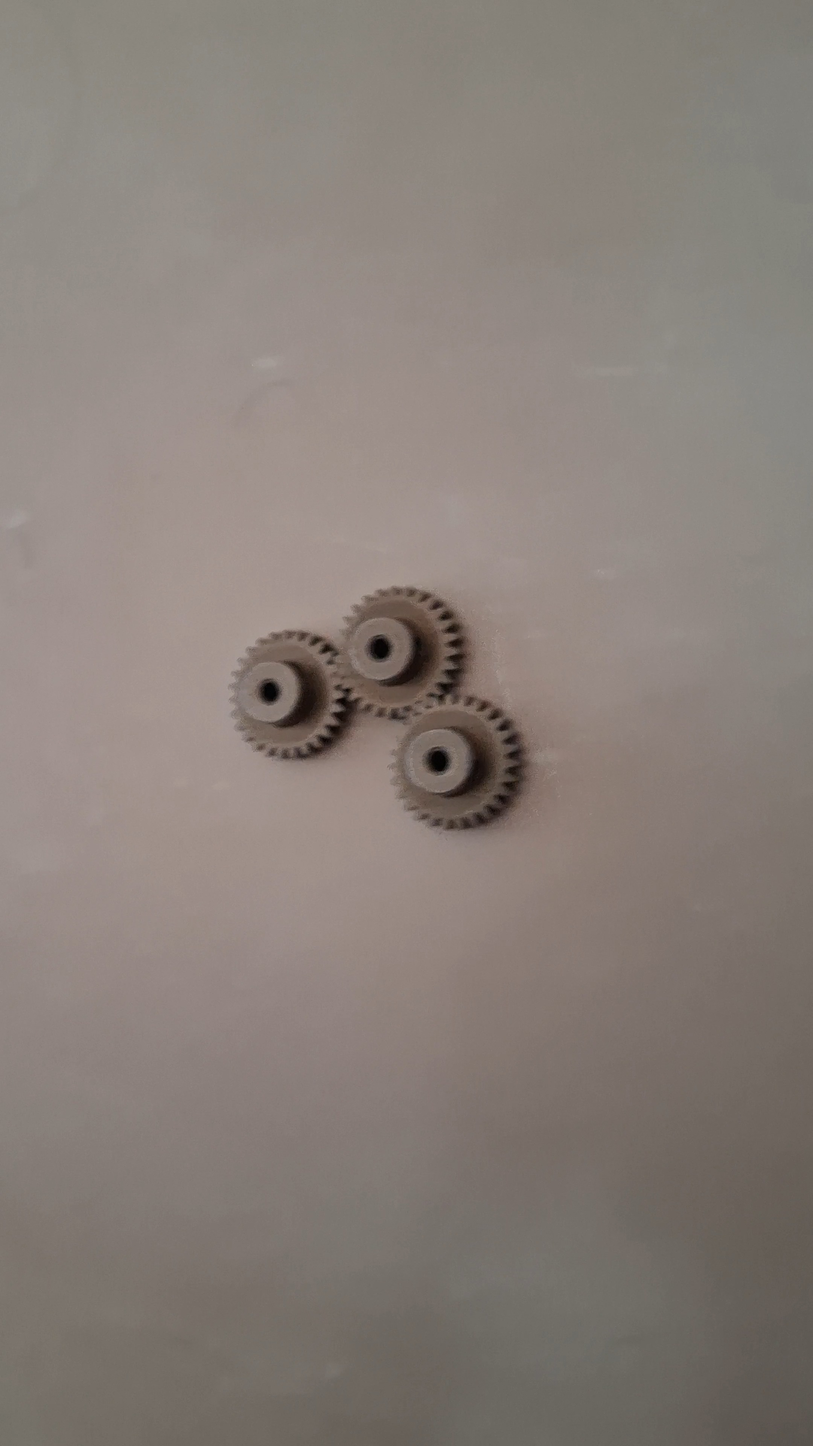spur gear: (391, 695, 521, 828), (340, 587, 463, 718), (231, 631, 348, 758)
